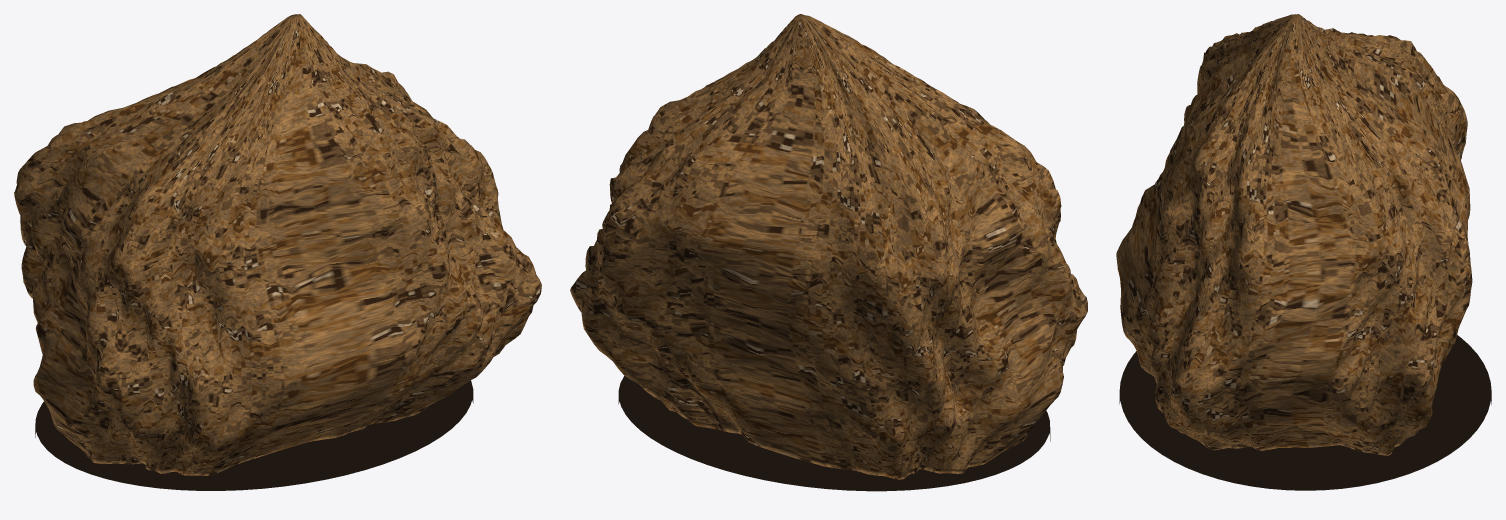
File: lingstone-concept-07-v19.glb
3 views of the same model, side by side, from view 1: azimuth 30°, elevation 25°; view 2: azimuth 150°, elevation 25°; view 3: azimuth 270°, elevation 25° (orthographic). The views are drawn at different scales.
Parts seen in each view (by area): view 1: XY-CONCEPT-007 concept stone, Concept display plinth; view 2: XY-CONCEPT-007 concept stone, Concept display plinth; view 3: XY-CONCEPT-007 concept stone, Concept display plinth.
Boxes of the visible parts, x1,y1,x2,y2 form: XY-CONCEPT-007 concept stone: (14, 14, 541, 475); Concept display plinth: (35, 380, 473, 490); XY-CONCEPT-007 concept stone: (570, 14, 1087, 479); Concept display plinth: (618, 376, 1050, 491); XY-CONCEPT-007 concept stone: (1116, 14, 1472, 455); Concept display plinth: (1119, 335, 1491, 490).
Size of the model in its own units: 1.51 by 1.34 by 1.12.
Materials: 2 (1 with a texture image).
